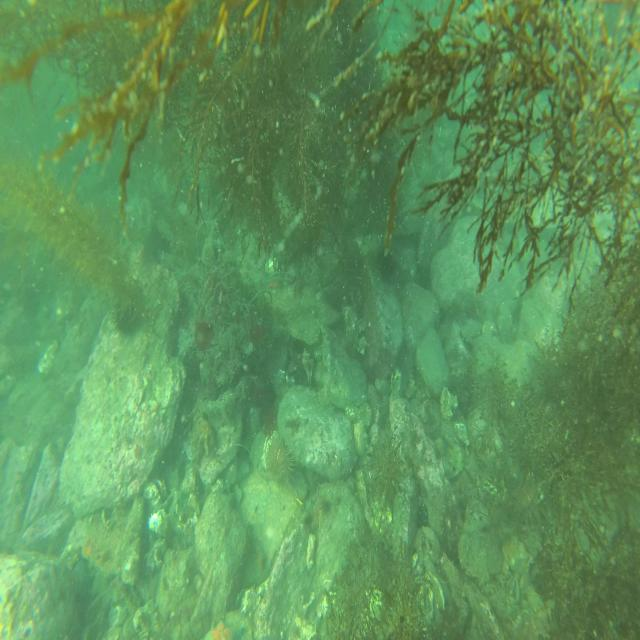echinus: (262, 431, 296, 488)
starfish: (200, 610, 248, 640), (262, 267, 288, 296)
